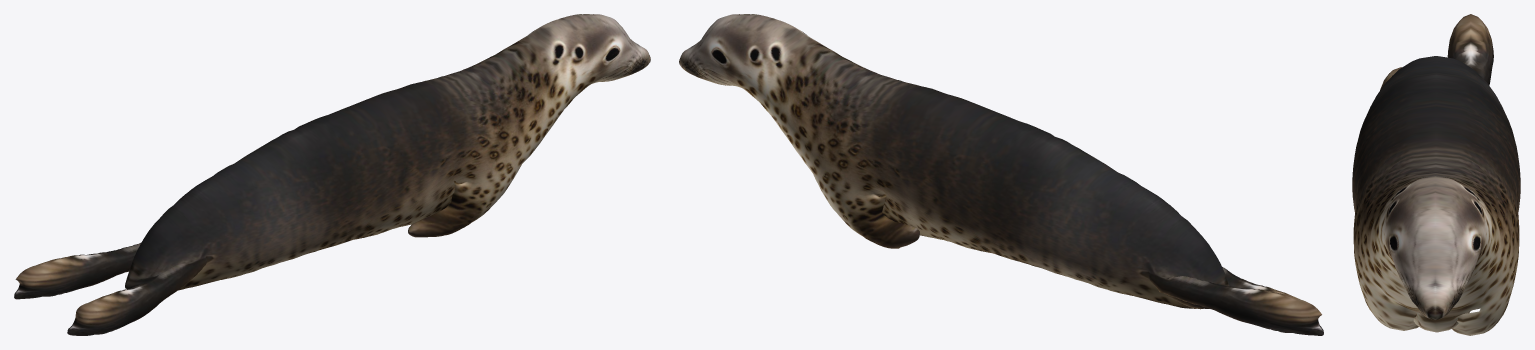
Rendered from seal.glb.
The picture shows the model from 3 angles, left to right: view 1: azimuth 30°, elevation 25°; view 2: azimuth 150°, elevation 25°; view 3: azimuth 270°, elevation 25°; orthographic projection. The views are drawn at different scales.
Bounding box in the file's own units: 8.44 × 2.41 × 1.47.
1 material, 1 textured.
